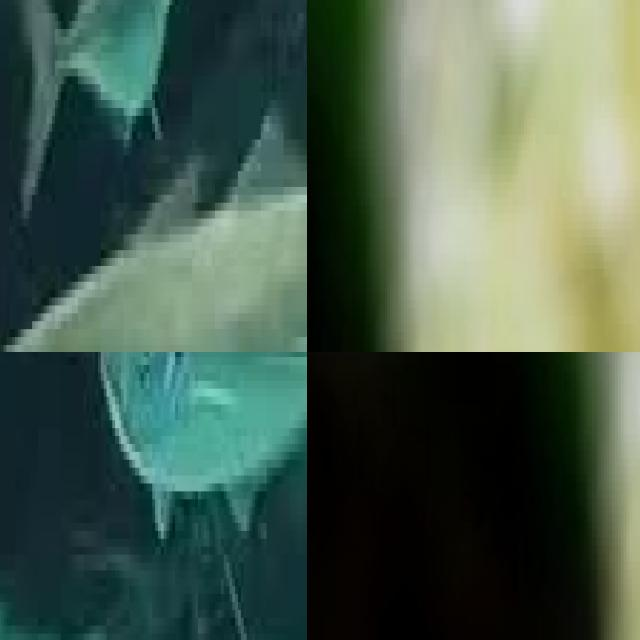fish: (0, 0, 307, 352), (78, 352, 307, 562)
